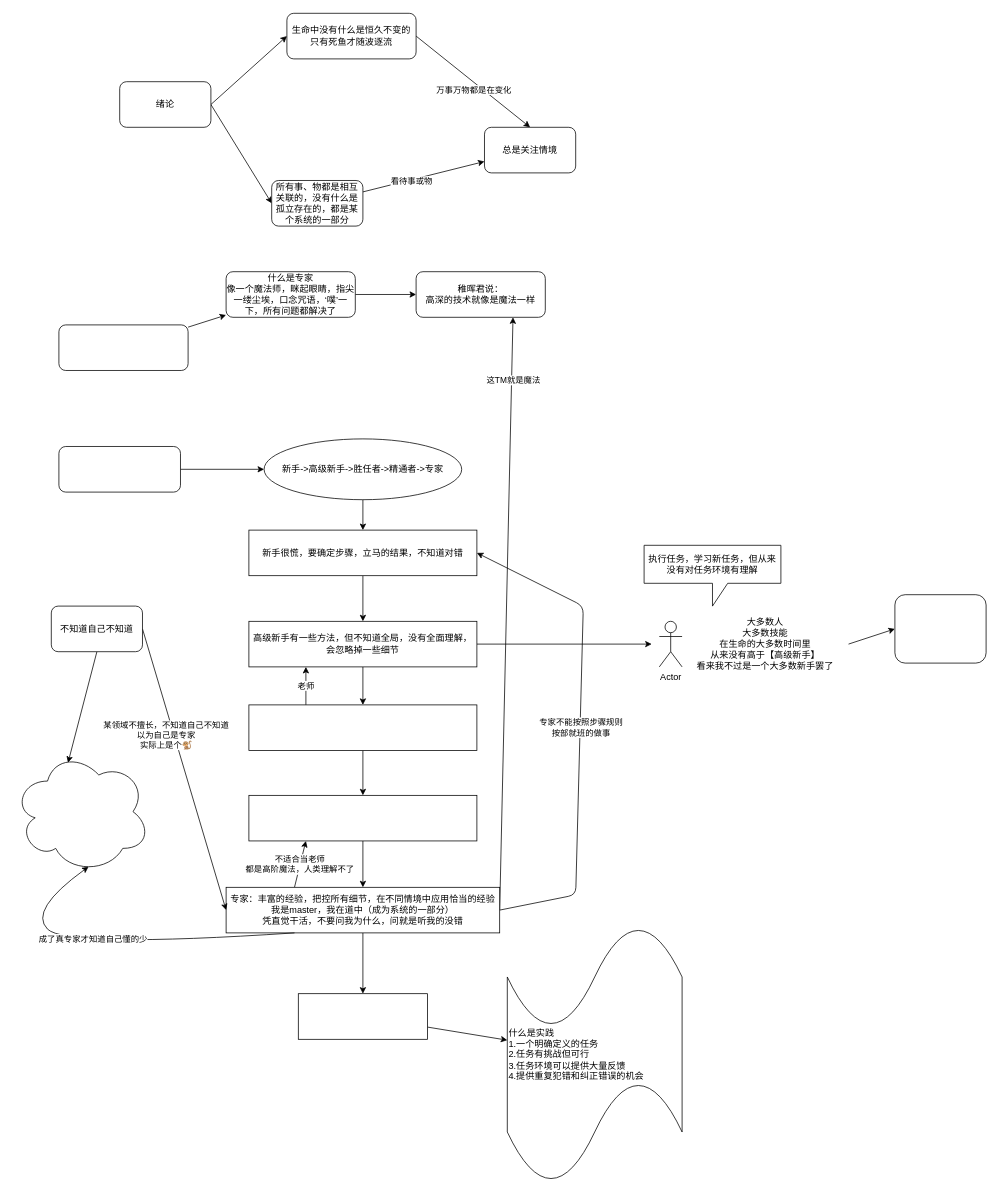
Image size: 999x1197. Some labels were removed from this diagram. The shapes that lost their labels are listed below. From the top down, each one's box as (x1, y1, x2, y2) in pixels, then its label:
(58, 324, 188, 370): 第一章 从新手到专家的过程
(58, 446, 180, 492): 第2章 从新手到专家的历程
(894, 594, 986, 663): 复制粘贴机器 错用设计模式 瞎JB乱干 高估自己的能力 不知道自己不知道 莫名的自信
(248, 704, 477, 750): 胜任者独立解决问题，寻求解决新问题，解决不了的问题会问专家和熟练者，没有足够的能力反思和自我改正
(13, 750, 150, 873): 无知往往来自于自信 而不是知识
(248, 795, 477, 841): 精通者全局思维，围绕精通点寻找更大的概念框架 自我改进，理解运用经验之谈（经验之谈是在具体的情境中的）
(298, 993, 428, 1039): 1.成为专家要10年 2.不是10年重复，是10年实践 (别想速成了，速成只能是个🐒)
